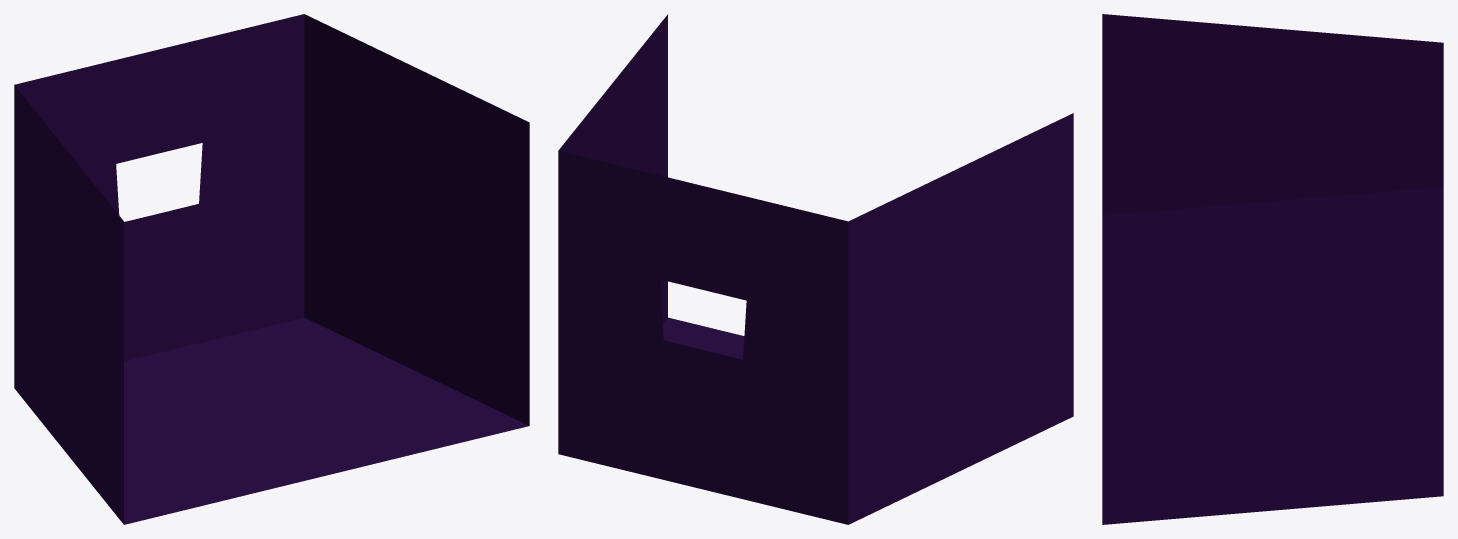
File: driver_pov (1).fbx
3 views of the same model, side by side, from view 1: azimuth 30°, elevation 25°; view 2: azimuth 150°, elevation 25°; view 3: azimuth 270°, elevation 25° (orthographic).
Visible parts, largest first — view 1: room; view 2: room; view 3: room.
Part boxes in pixels (box(x1,y1,x2,y2)): room: box(14, 14, 529, 524); room: box(558, 14, 1073, 524); room: box(1102, 14, 1443, 524).
Size of the model in its own units: 594 by 425 by 425.
